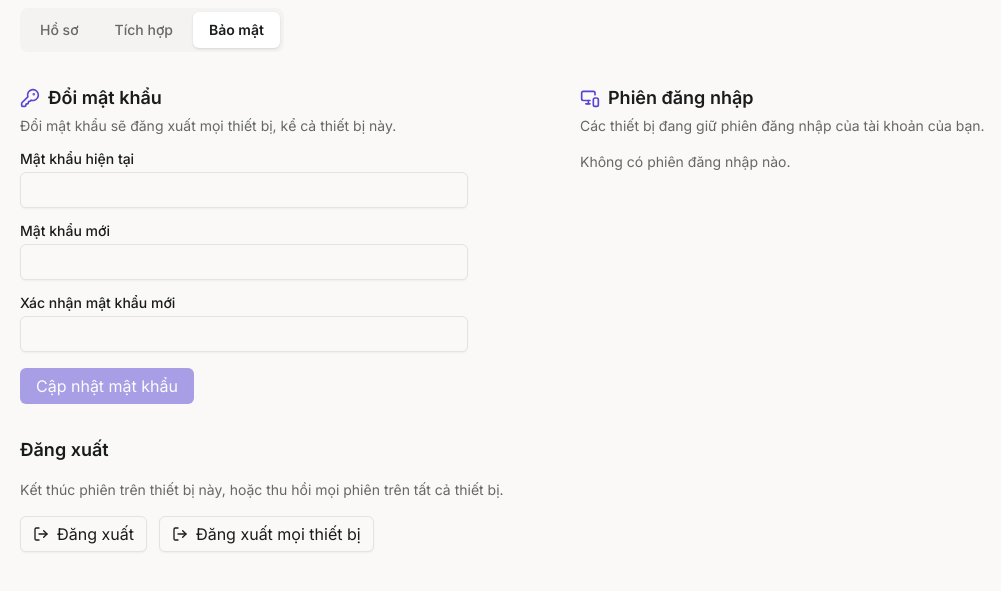
Test case: IdentitySecurityPage — change password › shows a wrong old password under its field and stays on the page
The width and height of the screenshot is (1001, 591).
Type "wrong-old" into the password field labelled "Mật khẩu hiện tại" at (244,190), box [20,172,468,208]
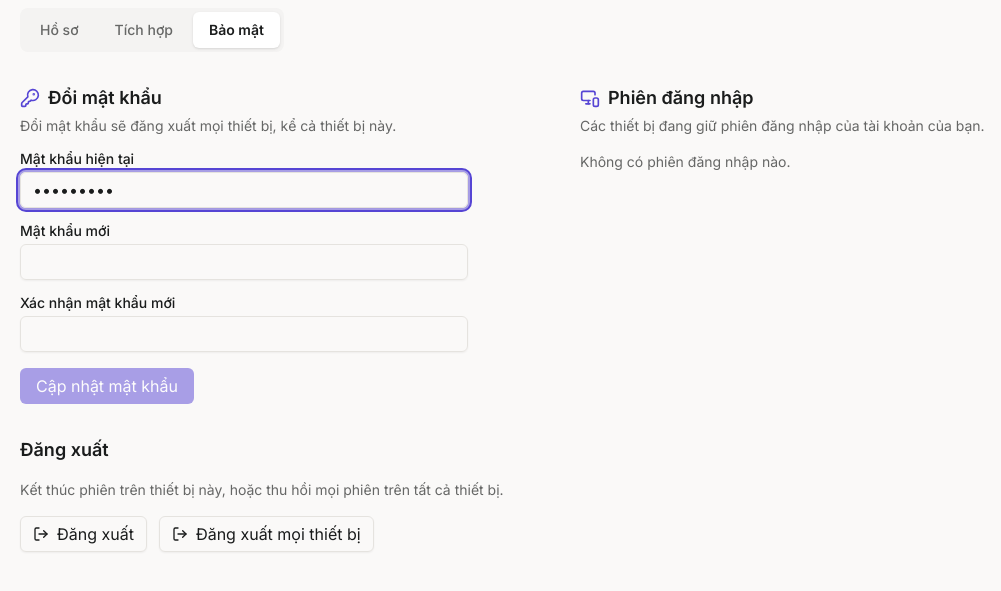
Type "Newpass#2026" into the password field labelled "Mật khẩu mới" at (244,262), box [20,244,468,280]
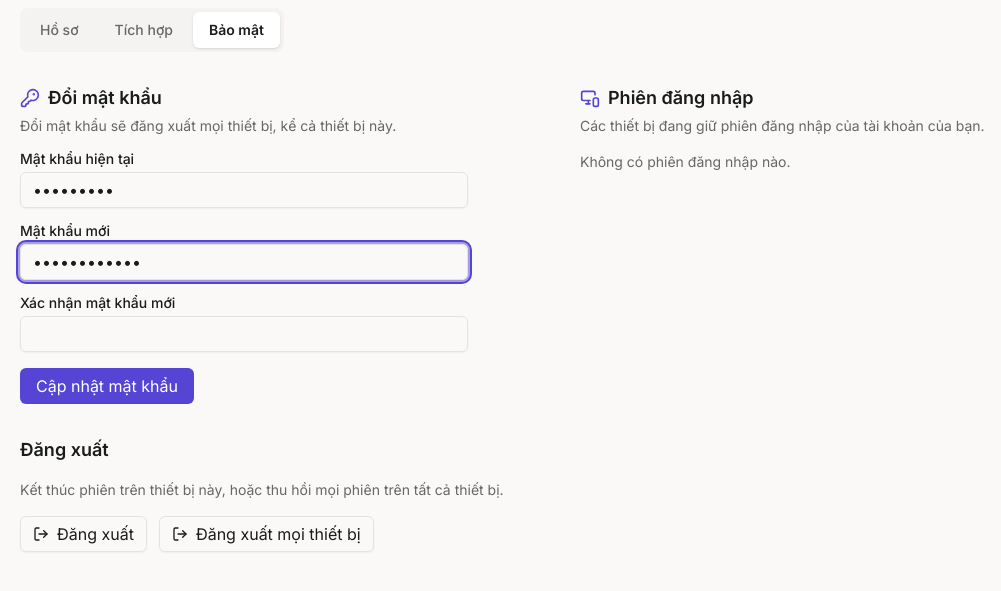
Type "Newpass#2026" into the password field labelled "Xác nhận mật khẩu mới" at (244,334), box [20,316,468,352]
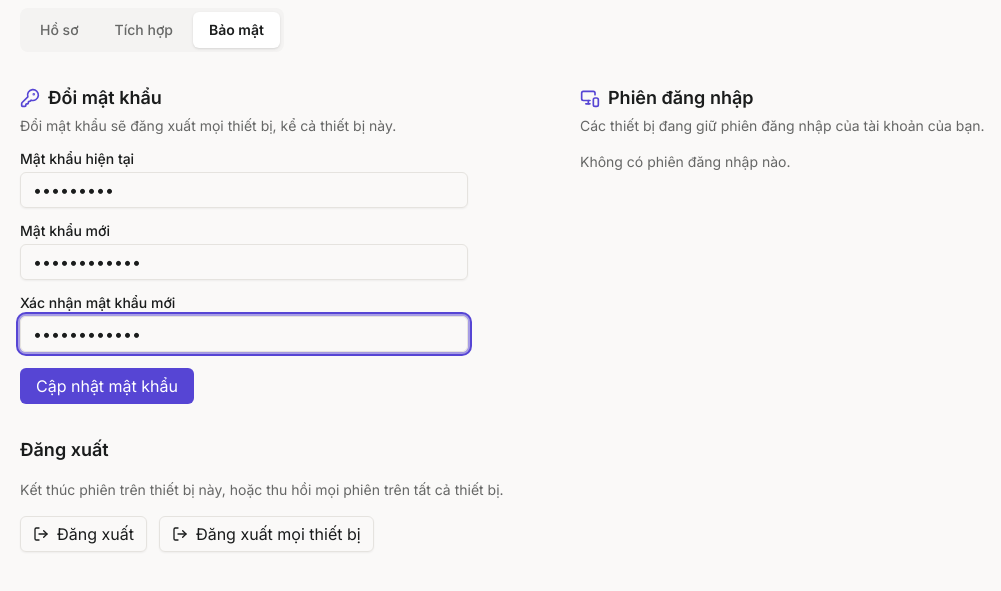
Click the button "Cập nhật mật khẩu" at (107,386), box [20,368,194,404]
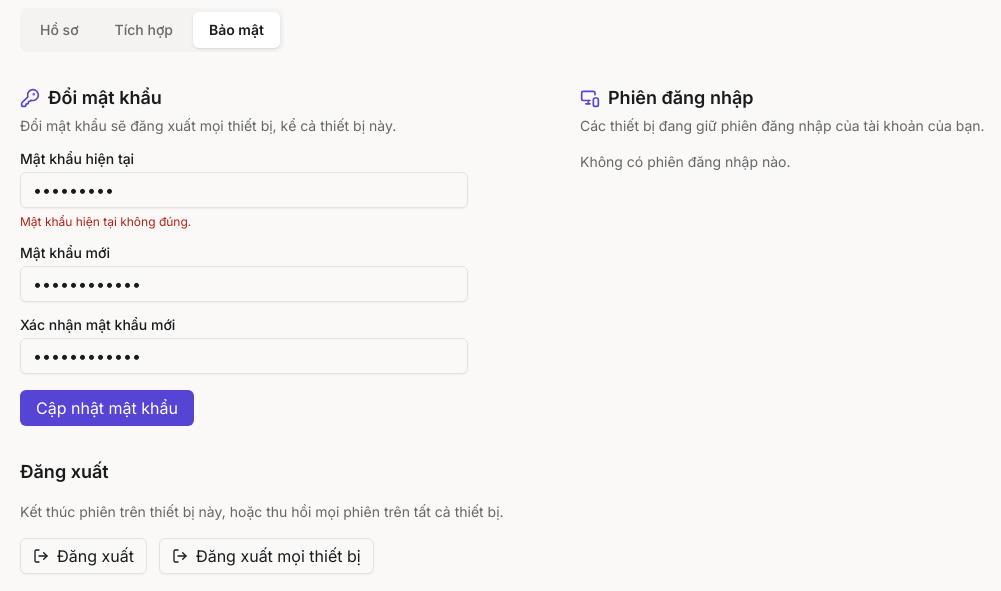
Now the text "Mật khẩu hiện tại không đúng." is shown, box [20,214,191,229]
